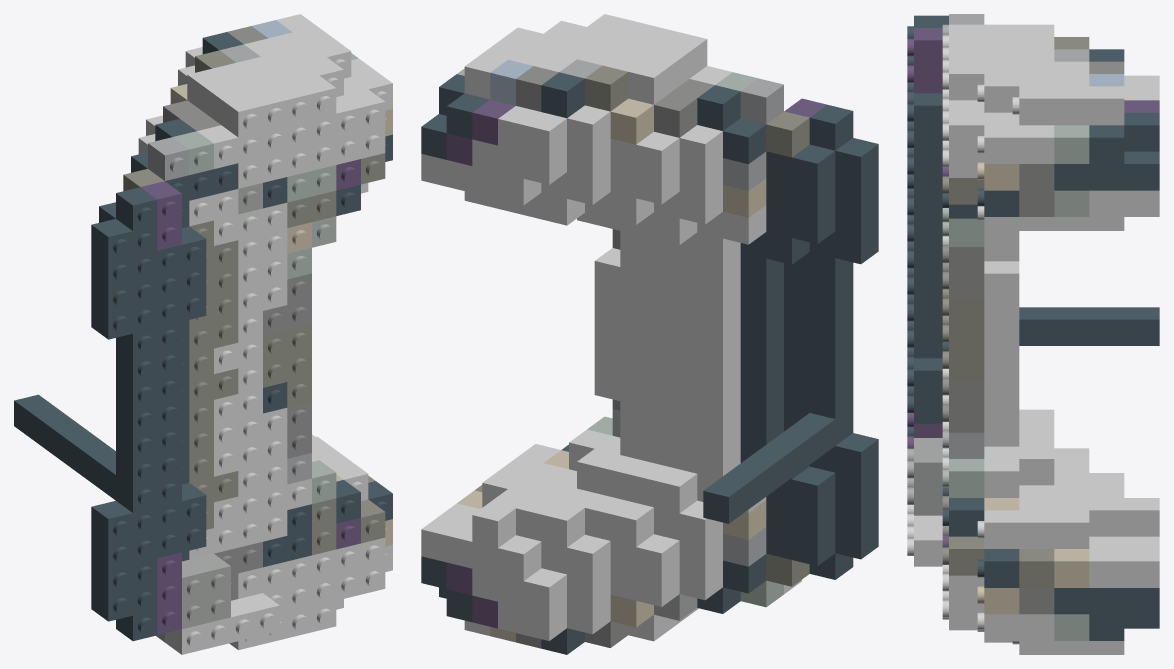
Rendered from full.glb.
3 renders of one model, left to right at view 1: azimuth 30°, elevation 25°; view 2: azimuth 150°, elevation 25°; view 3: azimuth 270°, elevation 25°, orthographic. The views are drawn at different scales.
Parts seen in each view (by area): view 1: world; view 2: world; view 3: world.
Part boxes in pixels (<box>): world: <box>14,14,392,654</box>; world: <box>421,14,878,654</box>; world: <box>907,14,1159,654</box>.
Bounding box in the file's own units: 104 × 168 × 69.
